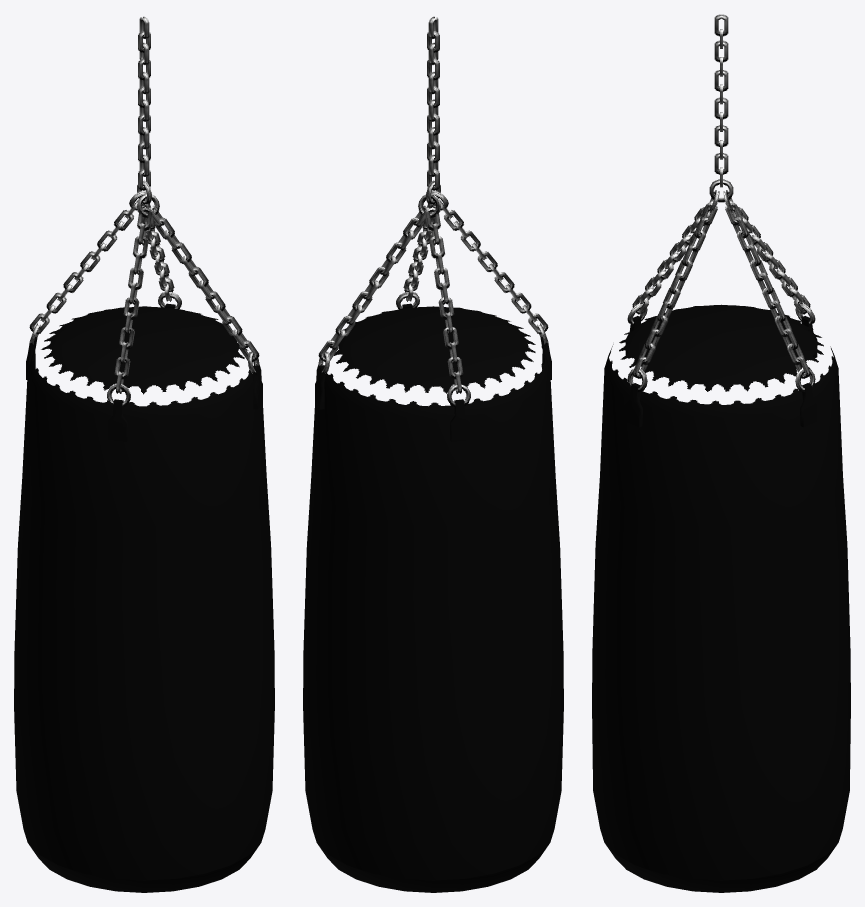
File: box_sandbag__box_sandbagC.glb
The picture shows the model from 3 angles, left to right: view 1: azimuth 30°, elevation 25°; view 2: azimuth 150°, elevation 25°; view 3: azimuth 270°, elevation 25°; orthographic projection.
Parts seen in each view (by area): view 1: polygon2, polygon0, polygon1; view 2: polygon2, polygon0, polygon1; view 3: polygon2, polygon0, polygon1.
Part boxes in pixels (x1=…): polygon2: x1=14, y1=303, x2=274, y2=892; polygon0: x1=29, y1=16, x2=259, y2=393; polygon1: x1=29, y1=180, x2=259, y2=406; polygon2: x1=303, y1=303, x2=563, y2=892; polygon0: x1=318, y1=16, x2=548, y2=393; polygon1: x1=318, y1=180, x2=548, y2=406; polygon2: x1=592, y1=304, x2=850, y2=892; polygon0: x1=632, y1=14, x2=810, y2=378; polygon1: x1=627, y1=179, x2=815, y2=391.
Bounding box in the file's own units: 7.74 × 27.61 × 7.64.
3 materials, 3 textured.
